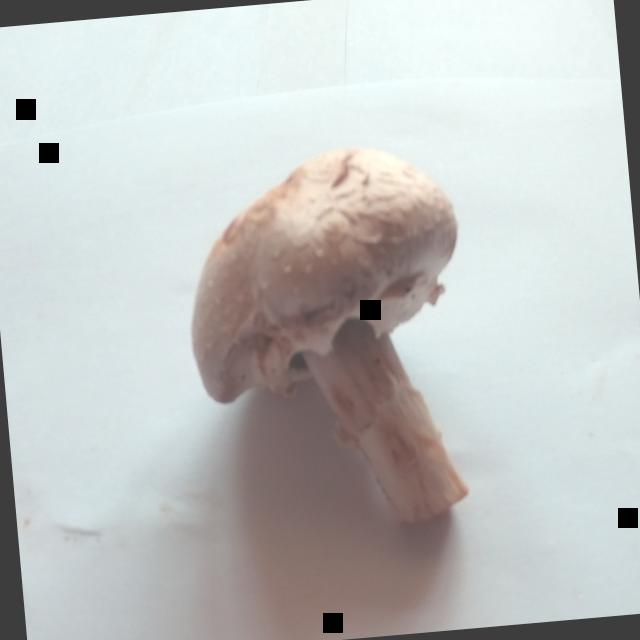Buttonmushroom: (164, 116, 516, 581)
